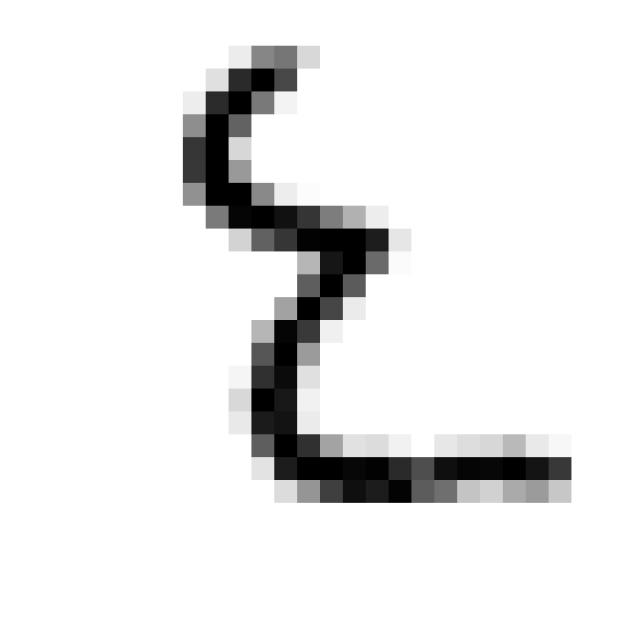4 -four-: (167, 25, 591, 532)
